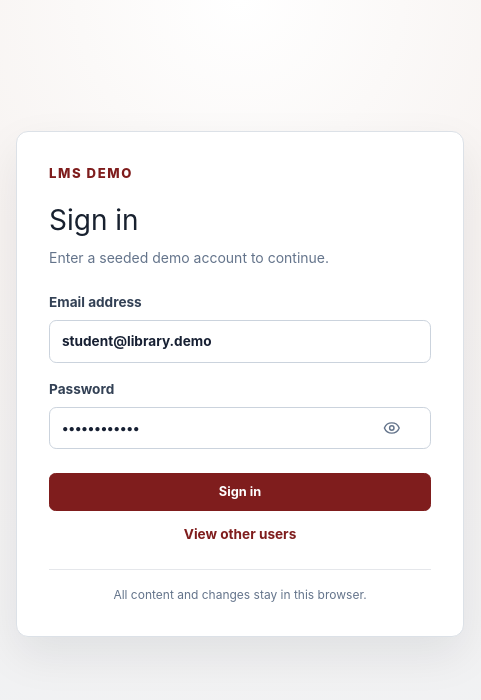
Test: shows credential errors
Type "bad" into the password field labelled "Password" at [240, 428], box [49,407,431,449]
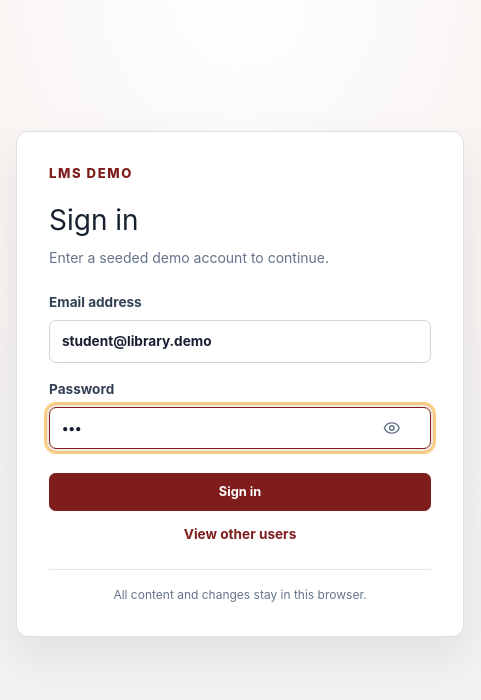
Click the button "Sign in" at [240, 492], box [49,473,431,511]
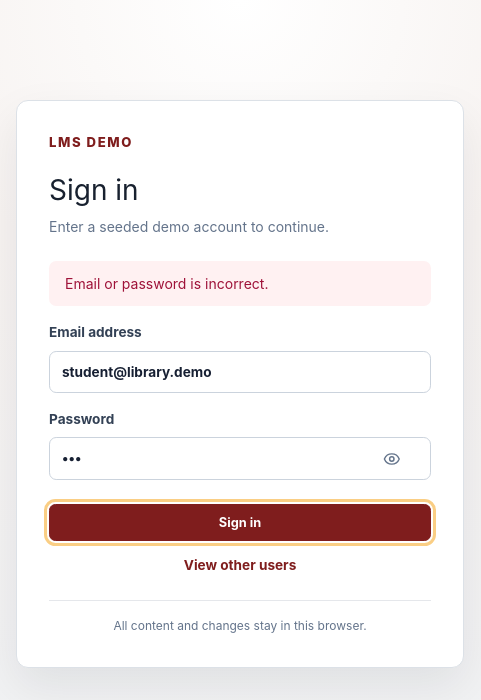
Now the message shows "incorrect", box [65,276,268,292]
